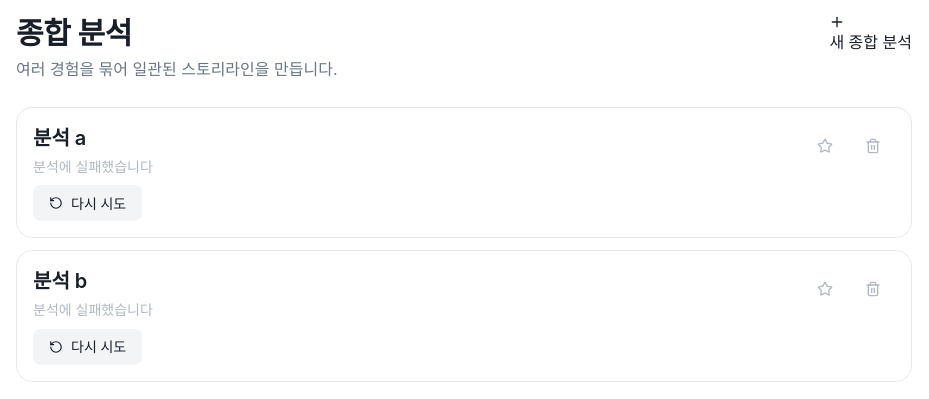
Test: 종합 분석 목록 — 재시도 폴링과 로컬 변경 (FRT-108) › 다른 카드를 재시도하는 사이 도착한 낡은 응답이 '진행 중'을 되돌리지 않는다
Click the button "다시 시도" below "분석 a" at {"x": 88, "y": 203}, box [33,185,142,221]
Wait 5000 ms
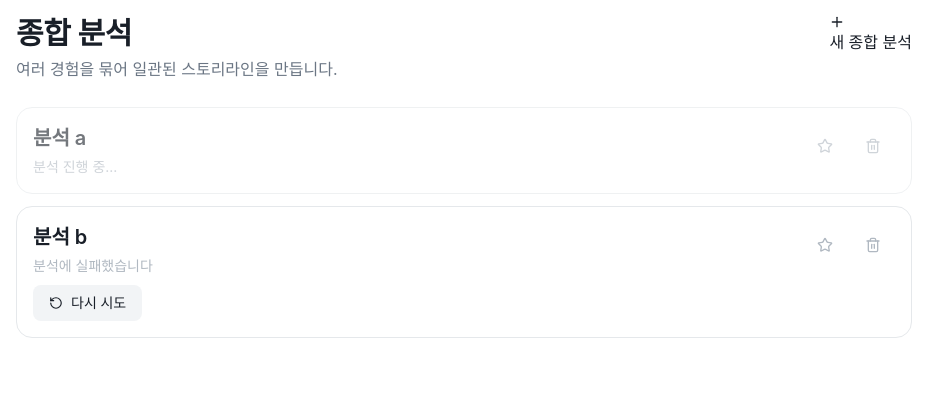
Click the button "다시 시도" at {"x": 88, "y": 303}, box [33,285,142,321]
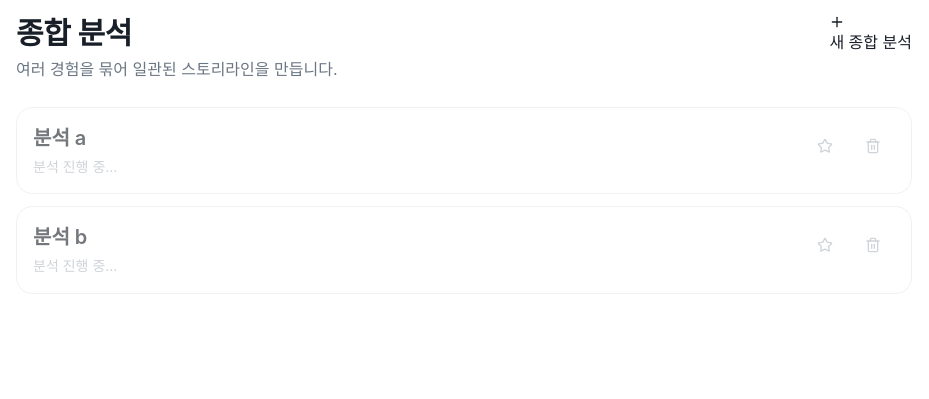
expect the text "분석 진행 중..." is shown 2 times: met, box [33,158,117,175]; [33,257,117,274]
expect the button "다시 시도" is gone: met
